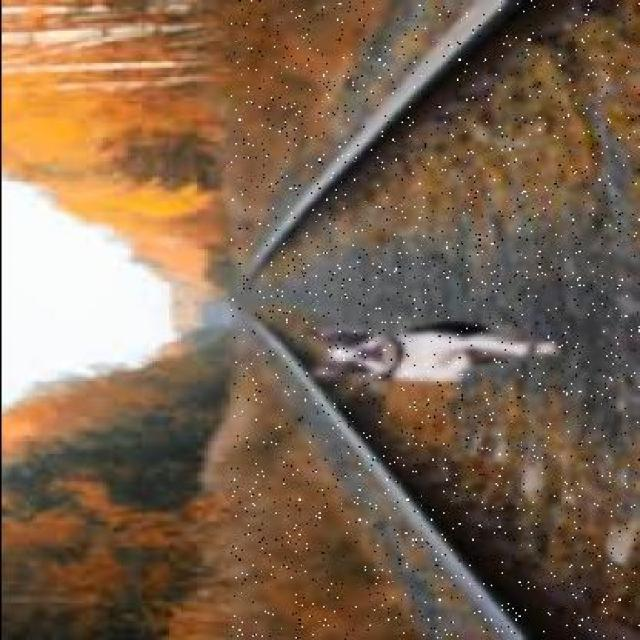danger: (300, 309, 560, 397)
rail: (230, 0, 638, 640)
